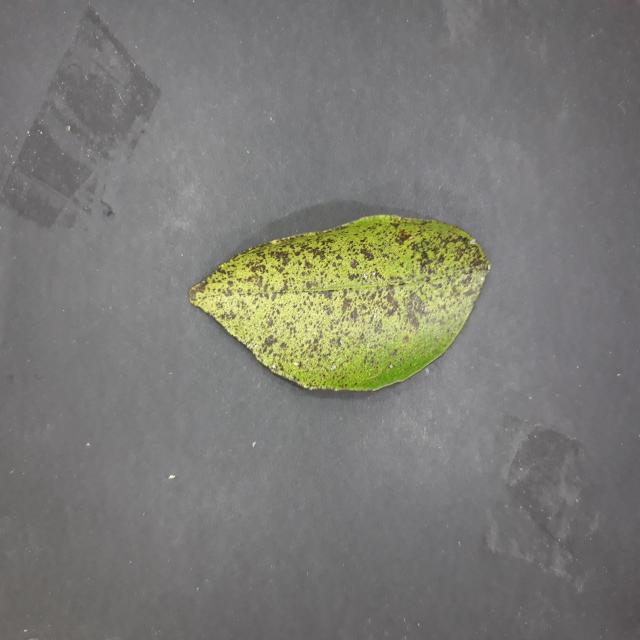greasy_spot: (189, 215, 490, 390)
